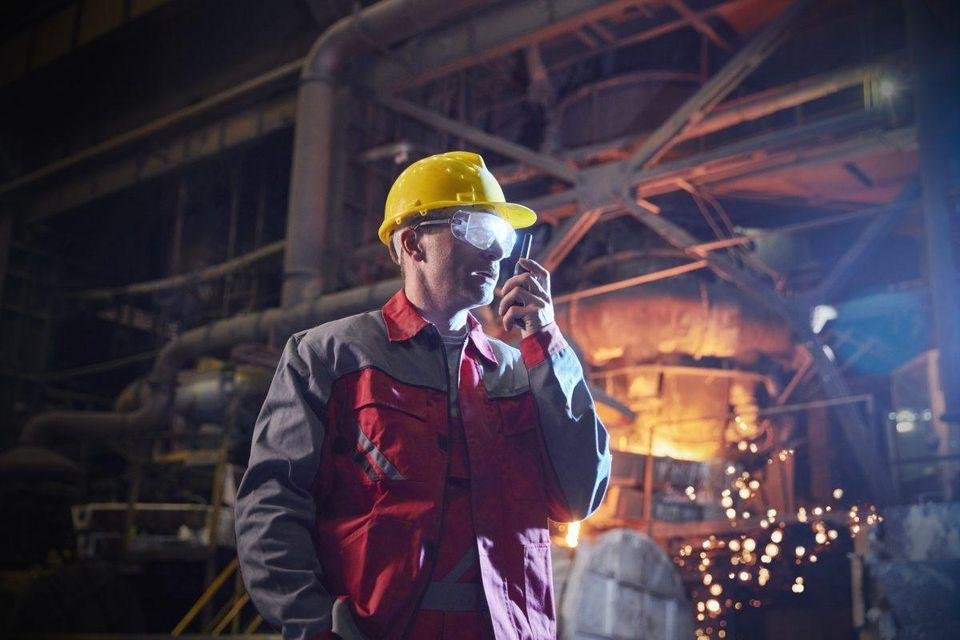helmet: (380, 151, 535, 241)
